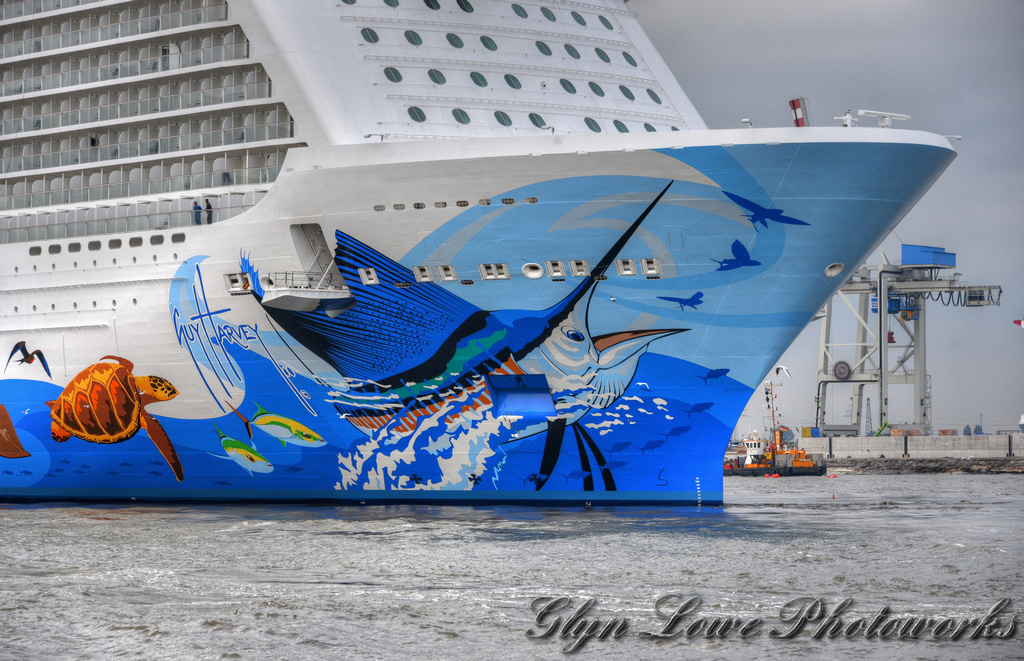Sea turtles: (40, 351, 184, 485)
